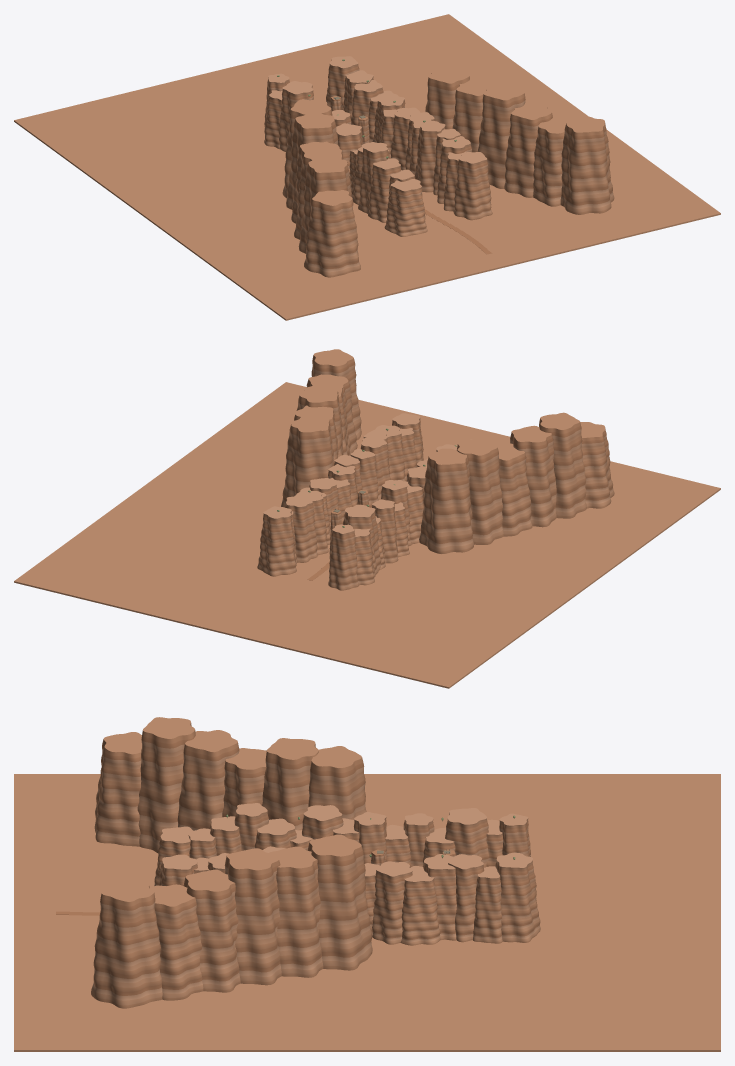
The model's file is canyon-BLqaz4Hp.glb.
The picture shows the model from 3 angles, top to bottom: view 1: azimuth 30°, elevation 25°; view 2: azimuth 150°, elevation 25°; view 3: azimuth 270°, elevation 25°; orthographic projection. The views are drawn at different scales.
Visible parts, largest first — view 1: Canyon floor, canyon_geology; view 2: Canyon floor, canyon_geology; view 3: Canyon floor, canyon_geology.
Boxes of the visible parts, box(x1,y1,x2,y2) form: Canyon floor: box(14, 14, 720, 320); canyon_geology: box(264, 56, 614, 277); Canyon floor: box(14, 382, 720, 688); canyon_geology: box(257, 349, 614, 590); Canyon floor: box(14, 774, 720, 1051); canyon_geology: box(91, 717, 540, 1008).
Size of the model in its own units: 600 by 116 by 650.
